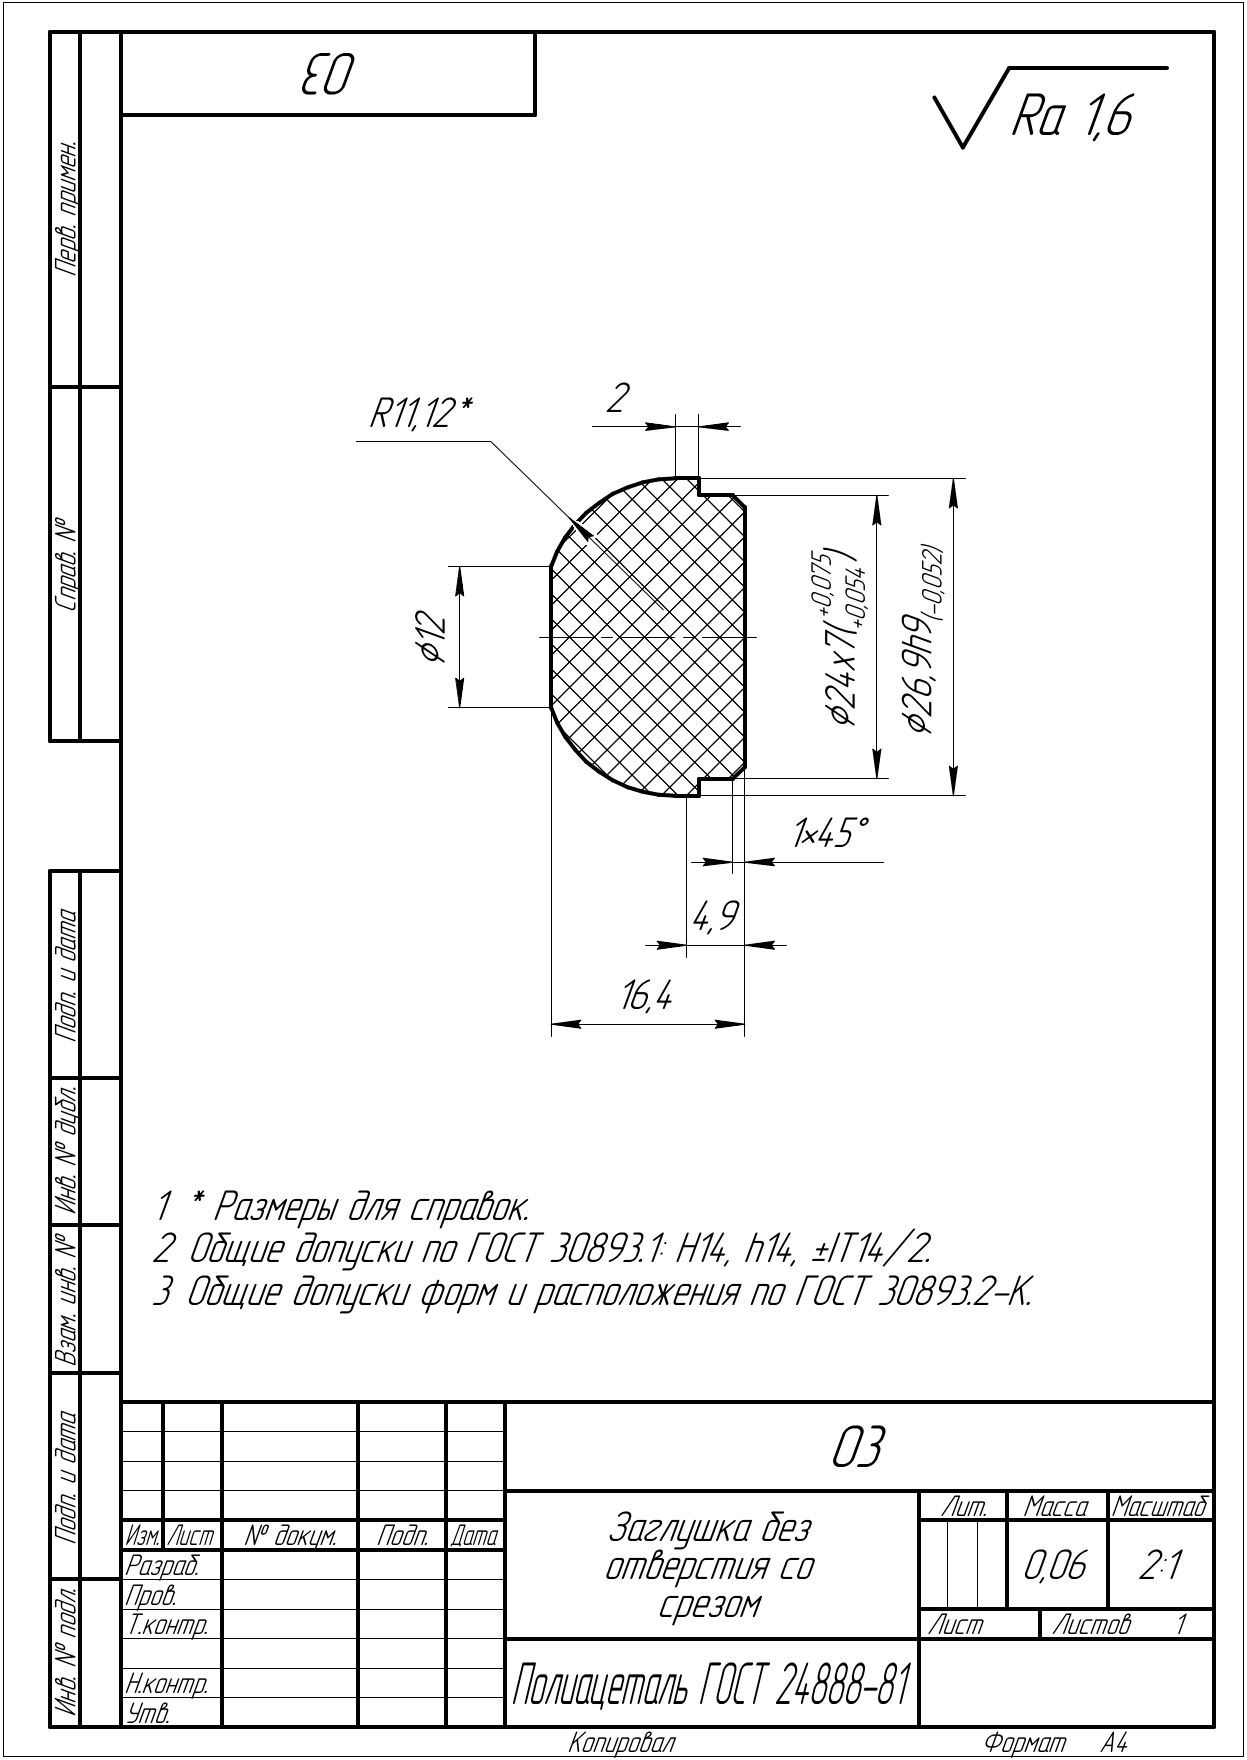Диаметральный размер: (810, 493, 889, 780), (897, 476, 968, 799), (413, 561, 466, 713)
Допуск: (810, 544, 870, 673), (899, 540, 946, 653)
Линейный размер: (548, 973, 748, 1041), (586, 374, 746, 435), (640, 895, 789, 956)
Общая шероховатость: (923, 59, 1181, 161)
Технические требования: (146, 1184, 1038, 1311)
Шероховатость: (691, 811, 893, 876)
